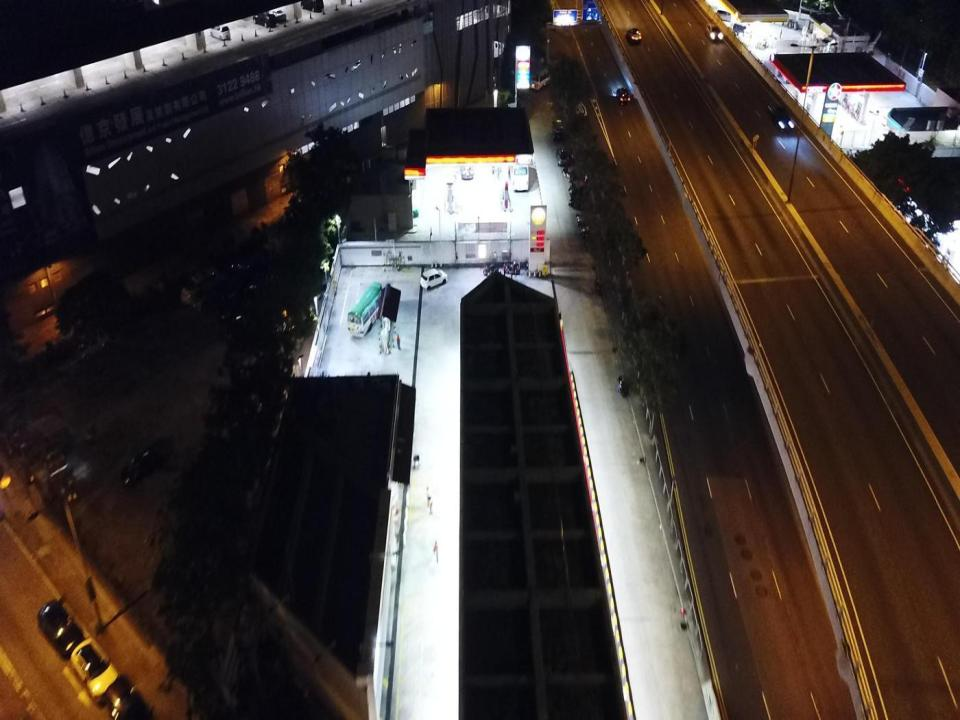bus: (347, 282, 385, 339), (508, 129, 529, 192), (529, 66, 551, 90)
car: (71, 638, 119, 704), (37, 599, 85, 656), (107, 675, 156, 719), (121, 444, 163, 490), (75, 332, 113, 362), (220, 287, 245, 319), (769, 105, 795, 133), (419, 268, 447, 292), (252, 6, 276, 28), (460, 152, 474, 179), (705, 22, 723, 42), (627, 26, 642, 44), (268, 7, 286, 22), (616, 88, 631, 105), (556, 149, 569, 165)
van: (180, 265, 220, 305), (192, 274, 228, 313), (210, 23, 230, 39), (732, 23, 752, 38), (299, 0, 324, 12), (552, 118, 564, 141), (716, 10, 734, 22)
